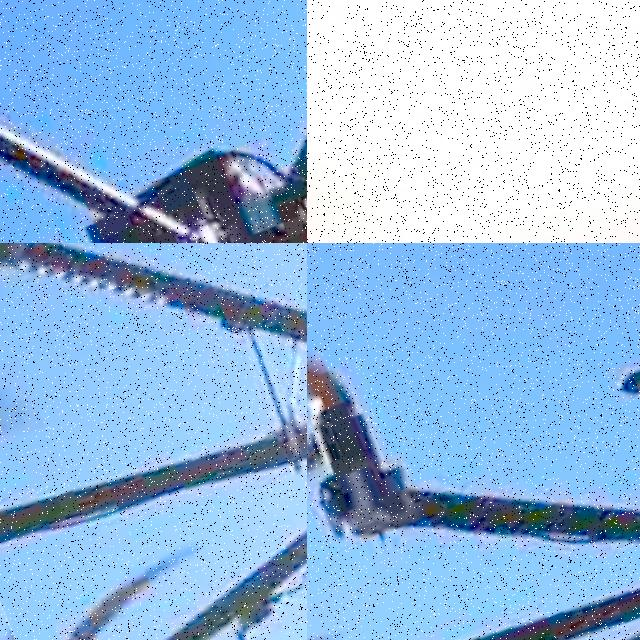drone: (307, 243, 640, 640), (0, 243, 307, 640), (307, 0, 640, 243), (0, 0, 307, 243)
